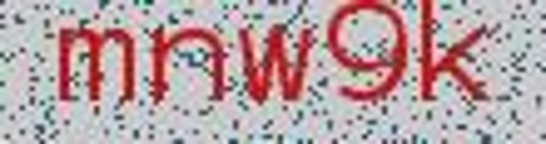9: (321, 1, 411, 115)
k: (413, 1, 500, 112)
m: (50, 17, 139, 112)
n: (146, 13, 227, 112)
w: (232, 16, 317, 112)
